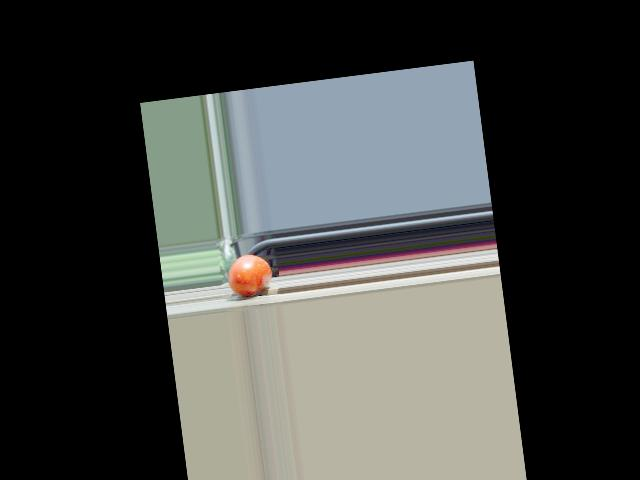tomato: (224, 251, 273, 297)
